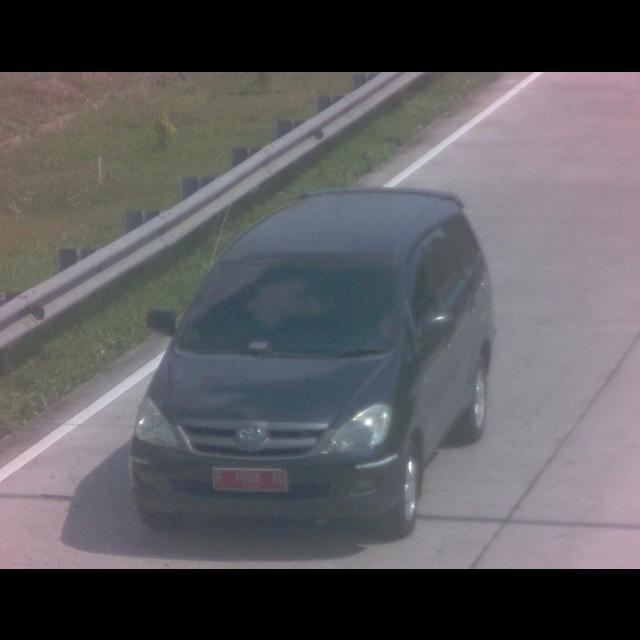plate: (212, 466, 290, 492)
